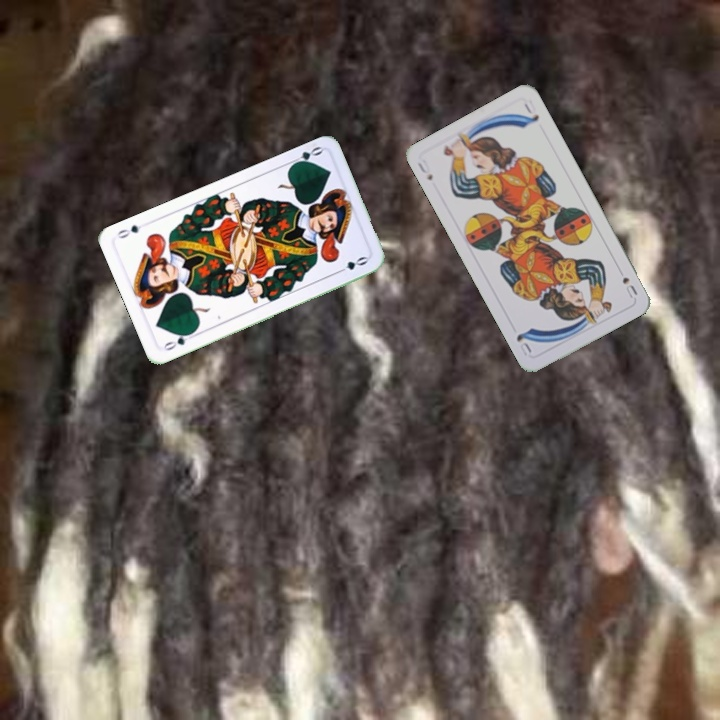GO: (285, 142, 325, 169), (159, 328, 198, 353)
SU: (618, 273, 640, 301), (413, 155, 435, 183)
